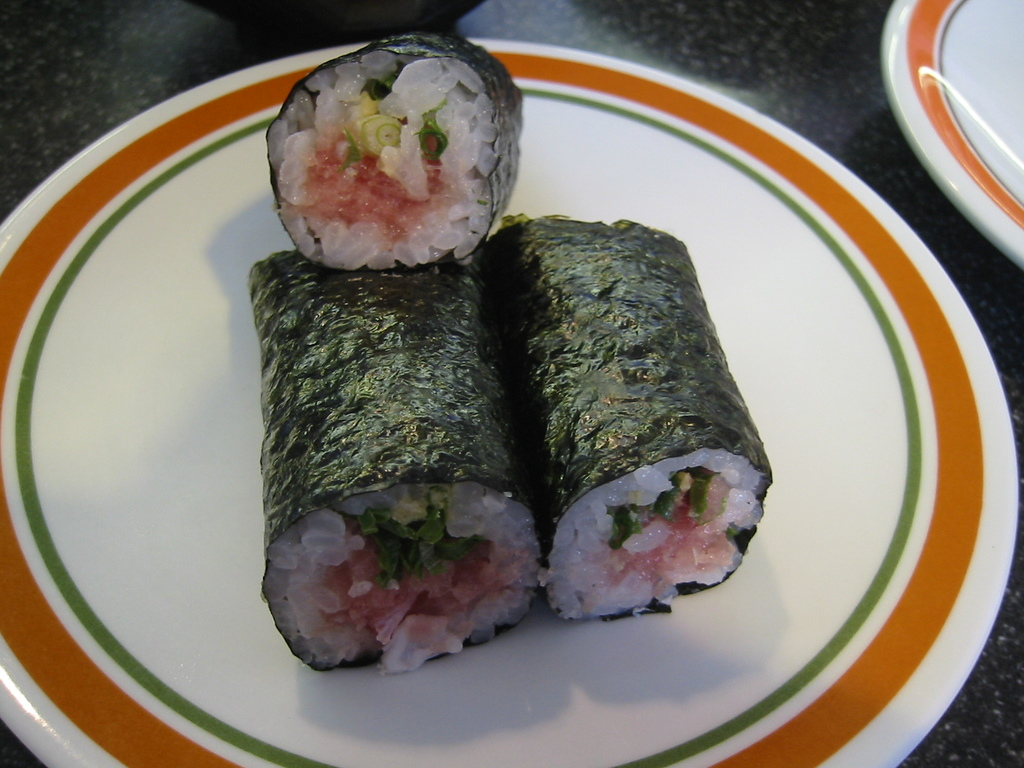sushi: (251, 248, 538, 663), (490, 212, 773, 618), (261, 49, 506, 280)
